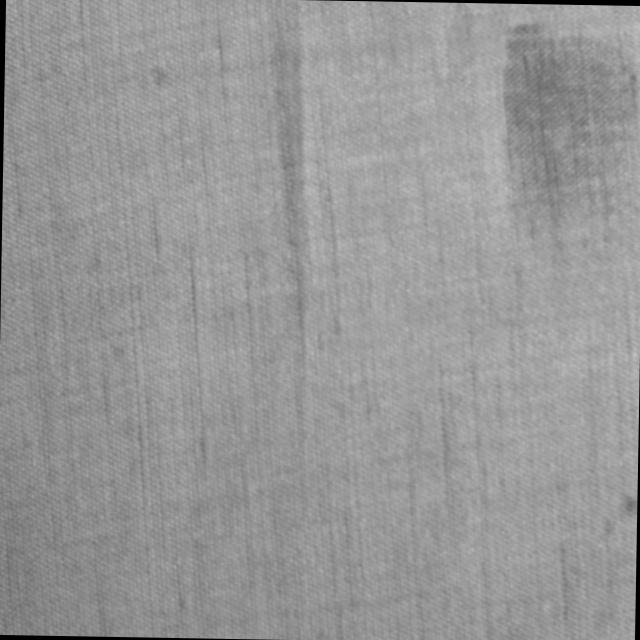oil spot: (495, 13, 640, 262)
